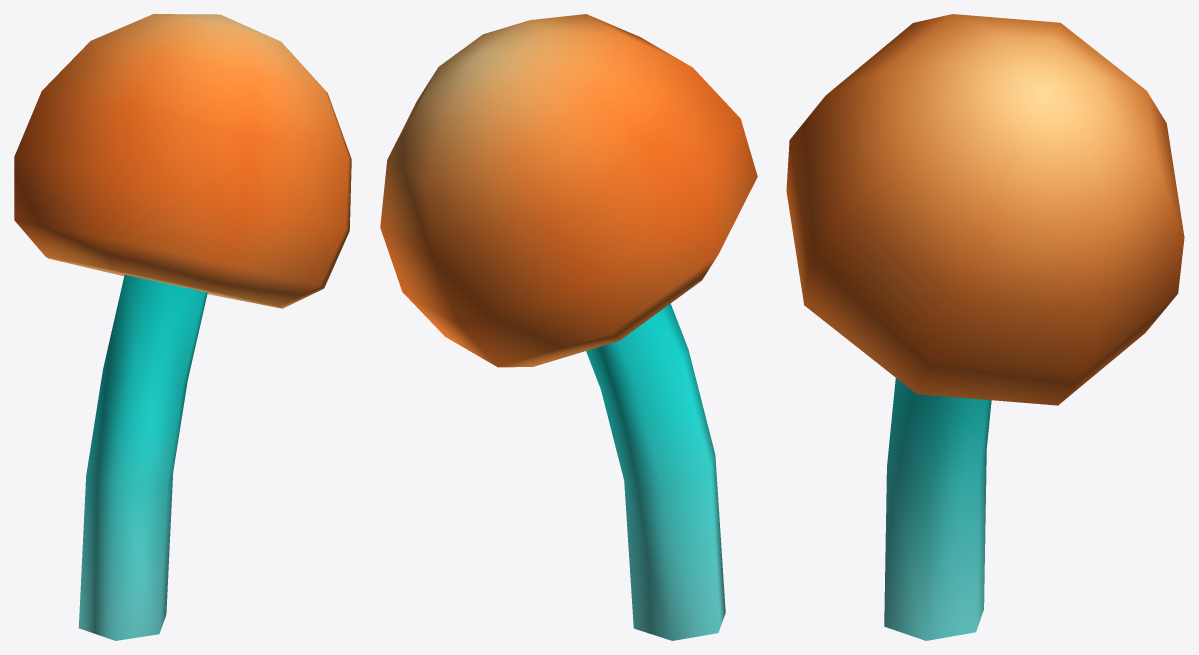
File: Mushroom.fbx
The picture shows the model from 3 angles, left to right: view 1: azimuth 30°, elevation 25°; view 2: azimuth 150°, elevation 25°; view 3: azimuth 270°, elevation 25°; orthographic projection. The views are drawn at different scales.
Parts seen in each view (by area): view 1: Mushroom.001, Mushroom; view 2: Mushroom.001, Mushroom; view 3: Mushroom.001, Mushroom.
Boxes of the visible parts, <box> form: Mushroom.001: <box>14,14,351,308</box>; Mushroom: <box>78,275,207,640</box>; Mushroom.001: <box>380,14,757,367</box>; Mushroom: <box>586,303,725,640</box>; Mushroom.001: <box>786,14,1184,405</box>; Mushroom: <box>884,378,991,640</box>.
Size of the model in its own units: 62.34 by 107 by 60.61.
